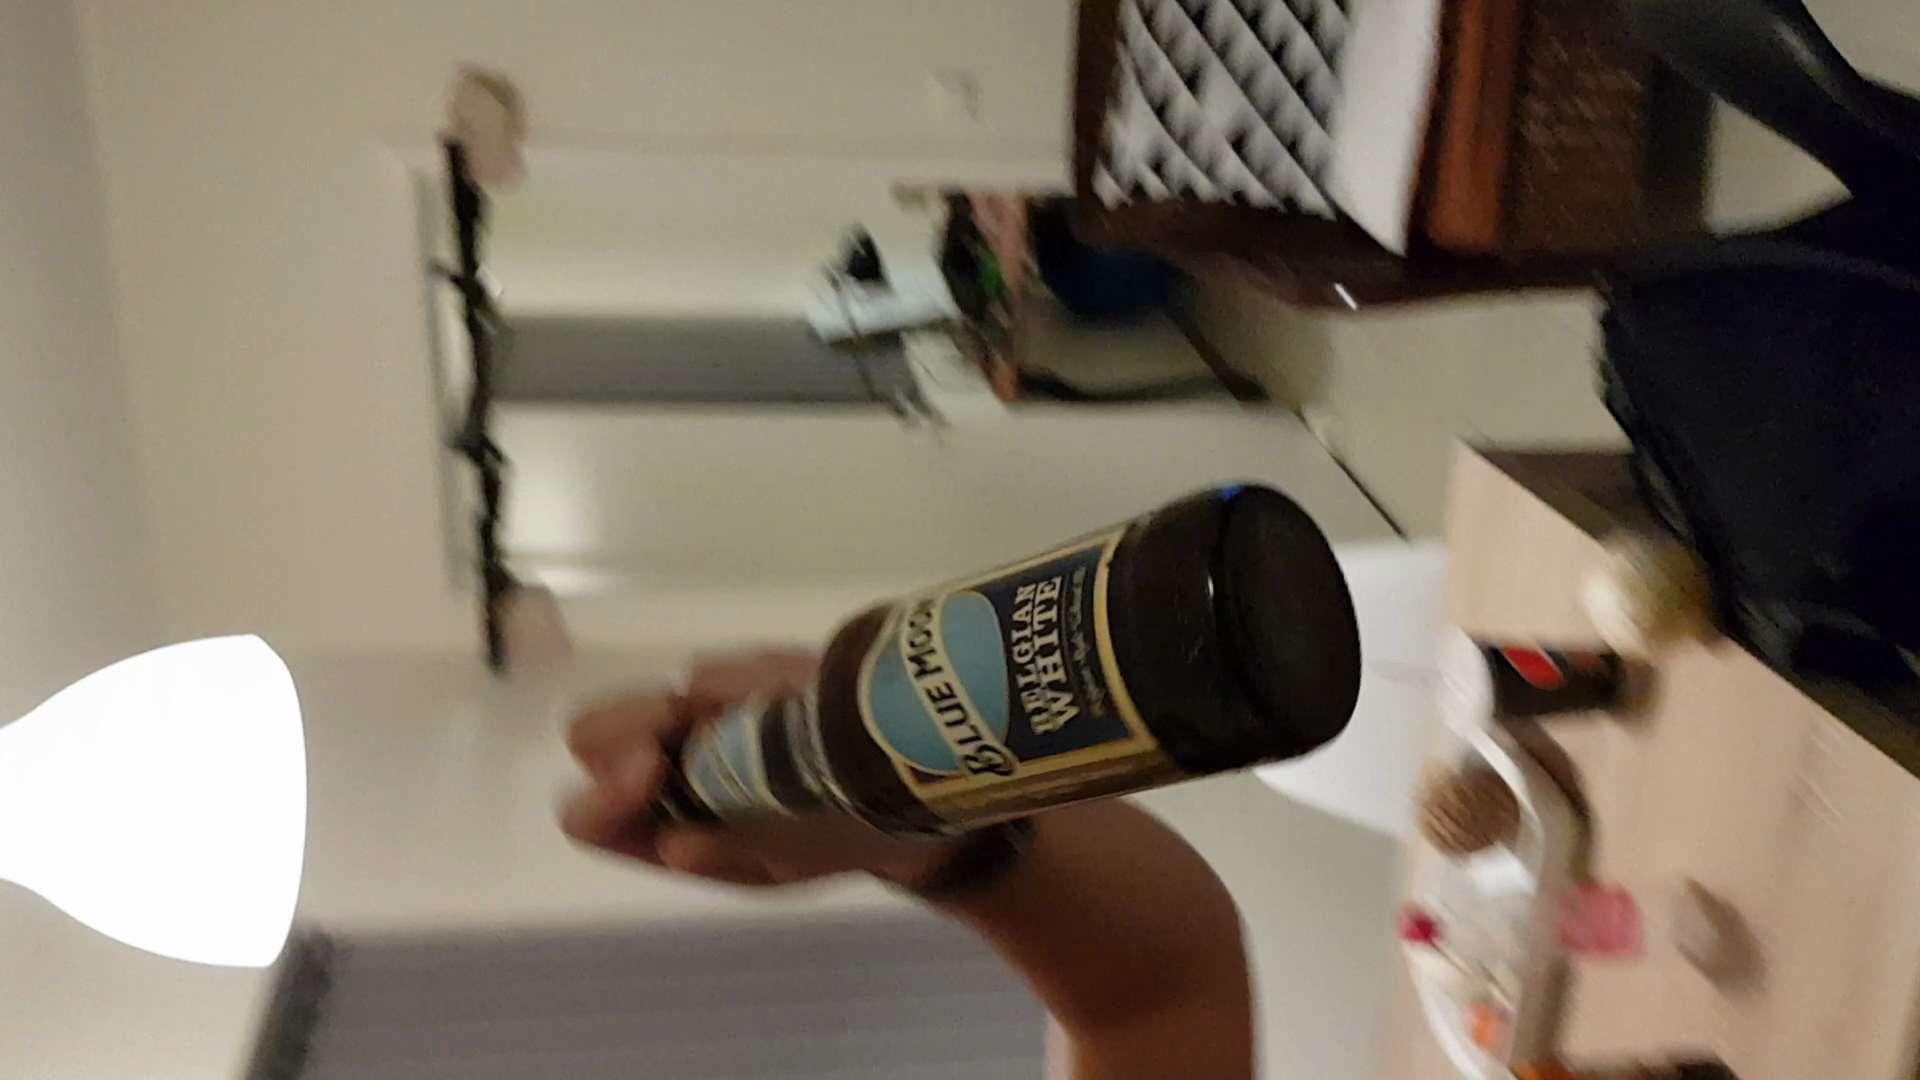Bottle: (636, 479, 1369, 832)
